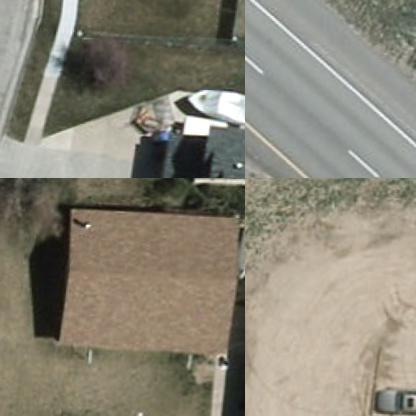boat: (180, 85, 244, 131)
car: (372, 386, 415, 415)
